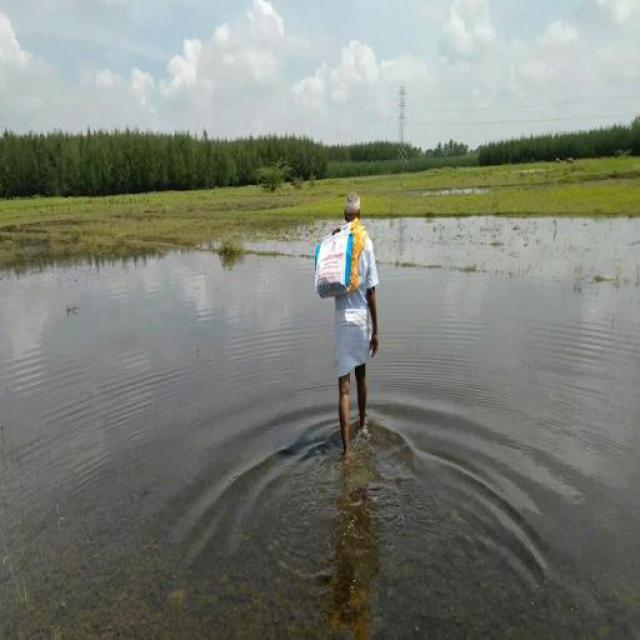puddle: (2, 281, 320, 631), (376, 218, 640, 635), (214, 477, 481, 626)
